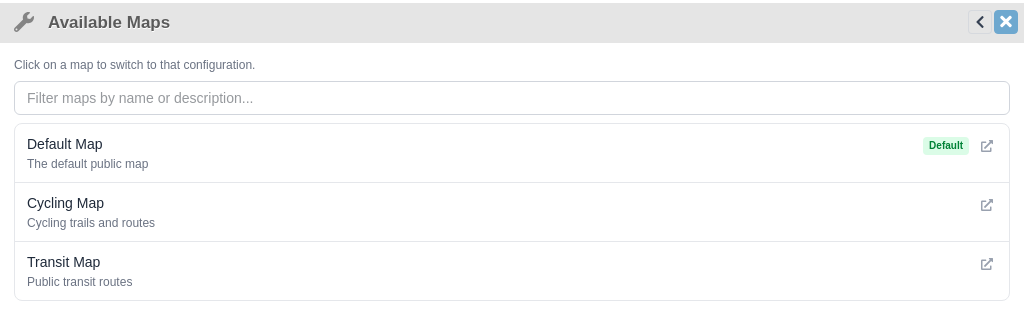
it: AvailableMapsTool › filters maps by description
Expected: the text "Default Map" is shown, [27,134,102,154]
Type "trails" into the field with placeholder "Filter maps by name or description..." at coordinates (512, 98), box [14,81,1010,115]
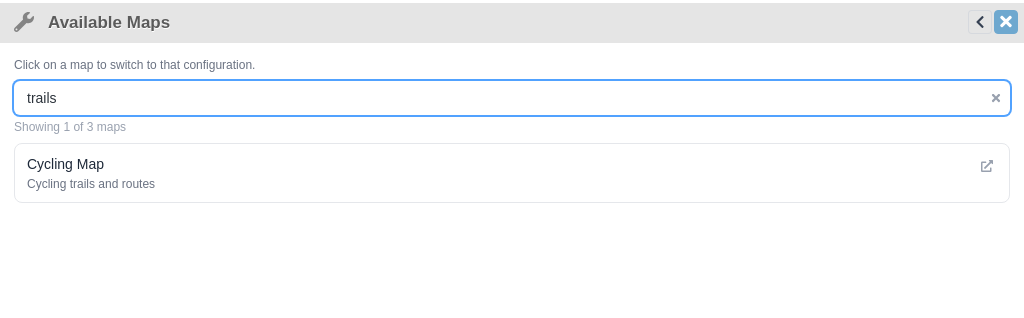
Expected: the text "Cycling Map" is shown, [27,154,104,174]
Expected: the button "Default Map" is gone
